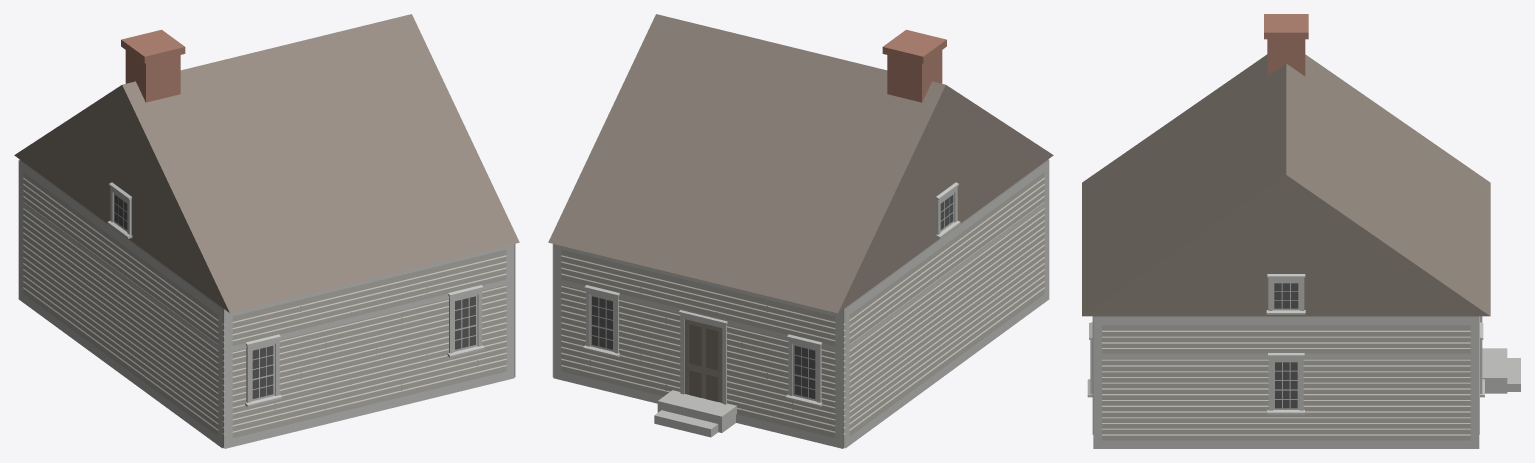
The model's file is recon_1835_north_d6_084__inferred_1835.glb.
3 views of the same model, side by side, from view 1: azimuth 30°, elevation 25°; view 2: azimuth 150°, elevation 25°; view 3: azimuth 270°, elevation 25° (orthographic). The views are drawn at different scales.
Parts seen in each view (by area): view 1: recon_1835_north_d6_084__inferred_1835; view 2: recon_1835_north_d6_084__inferred_1835; view 3: recon_1835_north_d6_084__inferred_1835.
Boxes of the visible parts, x1,y1,x2,y2 form: recon_1835_north_d6_084__inferred_1835: (14,14,519,448); recon_1835_north_d6_084__inferred_1835: (548,14,1053,448); recon_1835_north_d6_084__inferred_1835: (1082,14,1520,448).
Bounding box in the file's own units: 7.21 × 7.43 × 9.68.
